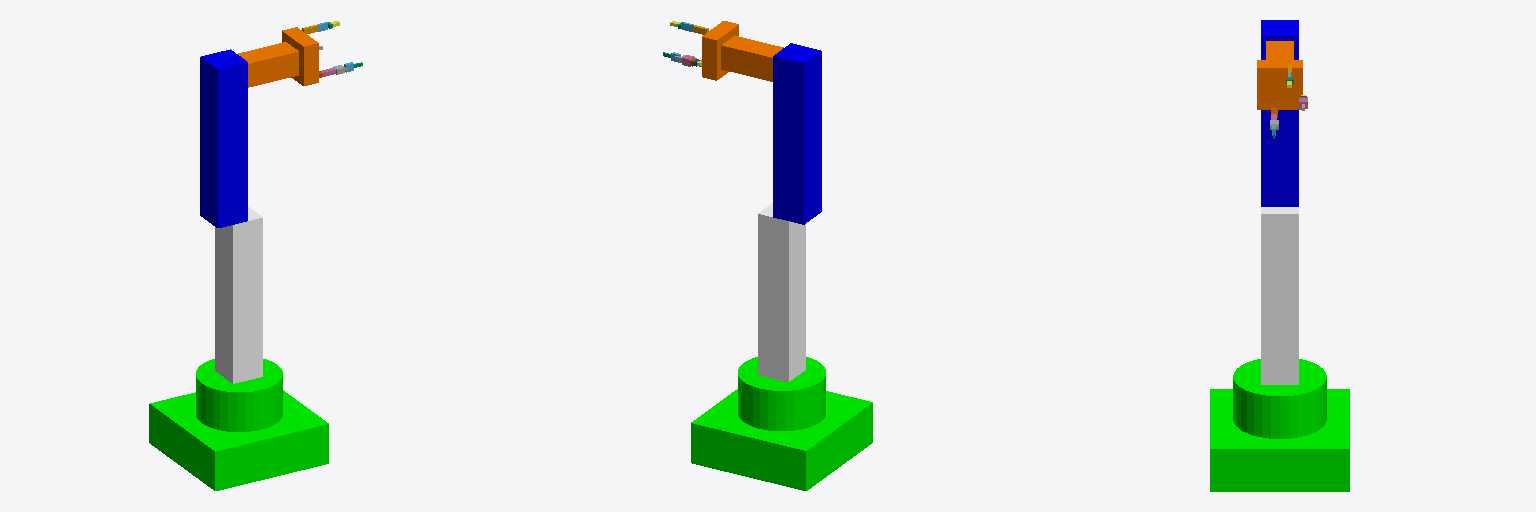
URDF robot description (robot):
<?xml version='1.0' encoding='utf-8'?>
<robot name="robot">
  <link name="base_link">
    <visual>
      <origin xyz="0 0 0.125" rpy="0 0 0" />
      <geometry>
        <box size="0.75 0.75 0.25" />
      </geometry>
      <material name="green" />
    </visual>
    <visual>
      <origin xyz="0 0 0.375" rpy="0 0 0" />
      <geometry>
        <cylinder length="0.25" radius="0.25" />
      </geometry>
      <material name="green">
        <color rgba="0 1 0 1" />
      </material>
    </visual>
    <collision>
      <geometry>
        <box size="0.75 0.75 0.5" />
      </geometry>
    </collision>
    <inertial>
      <mass value="0.5" />
      <inertia ixx="0.034" ixy="0.0" ixz="0.0" iyy="0.034" iyz="0.0" izz="0.034" />
    </inertial>
  </link>
  <link name="support_link">
    <visual>
      <origin xyz="0 0 0.5" rpy="0 0 0" />
      <geometry>
        <box size="0.2 0.2 1" />
      </geometry>
      <material name="white">
        <color rgba="1 1 1 1" />
      </material>
    </visual>
    <collision>
      <geometry>
        <box size="0.2 0.2 1" />
      </geometry>
    </collision>
    <inertial>
      <mass value="0.1" />
      <inertia ixx="0.01" ixy="0.0" ixz="0.0" iyy="0.01" iyz="0.0" izz="0.01" />
    </inertial>
  </link>
  <joint name="support_joint" type="continuous">
    <origin xyz="0 0 0.5" rpy="0 0 0" />
    <parent link="base_link" />
    <child link="support_link" />
    <axis xyz="0 0 1" />
  </joint>
  <link name="arm_link">
    <visual>
      <origin xyz="0 0 0.5" rpy="0 0 0" />
      <geometry>
        <box size="0.2 0.2 1" />
      </geometry>
      <material name="blue">
        <color rgba="0 0 1 1" />
      </material>
    </visual>
    <collision>
      <geometry>
        <box size="0.2 0.2 1" />
      </geometry>
    </collision>
    <inertial>
      <mass value="0.1" />
      <inertia ixx="0.01" ixy="0.0" ixz="0.0" iyy="0.01" iyz="0.0" izz="0.01" />
    </inertial>
  </link>
  <joint name="arm_joint" type="revolute">
    <origin xyz="-0.1 0 1" rpy="0 0 0" />
    <parent link="support_link" />
    <child link="arm_link" />
    <axis xyz="0 1 0" />
    <limit lower="-3.14" upper="3.14" effort="1.0" velocity="1.0" />
  </joint>
  <link name="wrist_link">
    <visual>
      <origin xyz="0 0 0.25" rpy="0 0 0" />
      <geometry>
        <box size="0.15 0.15 0.5" />
      </geometry>
      <material name="orange">
        <color rgba="1 0.5 0 1" />
      </material>
    </visual>
    <collision>
      <geometry>
        <box size="0.15 0.15 0.5" />
      </geometry>
    </collision>
    <inertial>
      <mass value="0.1" />
      <inertia ixx="0.01" ixy="0.0" ixz="0.0" iyy="0.01" iyz="0.0" izz="0.01" />
    </inertial>
  </link>
  <joint name="wrist_joint" type="fixed">
    <origin xyz="0 0 0.9" rpy="0 1.571 0" />
    <parent link="arm_link" />
    <child link="wrist_link" />
  </joint>
  <link name="palm_link">
    <visual>
      <origin xyz="0 0 0.05" rpy="0 0 0" />
      <geometry>
        <box size="0.25 0.25 0.1" />
      </geometry>
      <material name="orange" />
    </visual>
    <collision>
      <geometry>
        <box size="0.25 0.25 0.1" />
      </geometry>
    </collision>
    <inertial>
      <mass value="0.1" />
      <inertia ixx="0.01" ixy="0.0" ixz="0.0" iyy="0.01" iyz="0.0" izz="0.01" />
    </inertial>
  </link>
  <joint name="palm_joint" type="fixed">
    <origin xyz="0 0 0.45" rpy="0 0 0" />
    <parent link="wrist_link" />
    <child link="palm_link" />
  </joint>
  <link name="finger_link_0_0">
    <visual>
      <origin xyz="0 0 0.035" rpy="0 0 0" />
      <geometry>
        <box size="0.024 0.038 0.07" />
      </geometry>
    </visual>
    <collision>
      <geometry>
        <box size="0.024 0.038 0.07" />
      </geometry>
    </collision>
    <inertial>
      <mass value="0.019" />
      <inertia ixx="0.0" iyy="0.0" izz="0.0" ixy="0" ixz="0" iyz="0" />
    </inertial>
  </link>
  <joint name="finger_joint_palm_link_to_finger_link_0_0" type="revolute">
    <origin xyz="0.125 -0.031 0.1" rpy="0 0 0" />
    <parent link="palm_link" />
    <child link="finger_link_0_0" />
    <axis xyz="0.0 1.0 0.0" />
    <limit lower="-3.142" upper="3.142" effort="10" velocity="10" />
  </joint>
  <link name="finger_link_0_1">
    <visual>
      <origin xyz="0 0 0.045" rpy="0 0 0" />
      <geometry>
        <box size="0.028 0.03 0.09" />
      </geometry>
    </visual>
    <collision>
      <geometry>
        <box size="0.028 0.03 0.09" />
      </geometry>
    </collision>
    <inertial>
      <mass value="0.023" />
      <inertia ixx="0.0" iyy="0.0" izz="0.0" ixy="0" ixz="0" iyz="0" />
    </inertial>
  </link>
  <joint name="finger_joint_finger_link_0_0_to_finger_link_0_1" type="revolute">
    <origin xyz="0.0 0.0 0.07" rpy="0 0 0" />
    <parent link="finger_link_0_0" />
    <child link="finger_link_0_1" />
    <axis xyz="0.0 1.0 0.0" />
    <limit lower="-3.142" upper="3.142" effort="10" velocity="10" />
  </joint>
  <link name="finger_link_0_2">
    <visual>
      <origin xyz="0 0 0.0275" rpy="0 0 0" />
      <geometry>
        <box size="0.032 0.047 0.055" />
      </geometry>
    </visual>
    <collision>
      <geometry>
        <box size="0.032 0.047 0.055" />
      </geometry>
    </collision>
    <inertial>
      <mass value="0.025" />
      <inertia ixx="0.0" iyy="0.0" izz="0.0" ixy="0" ixz="0" iyz="0" />
    </inertial>
  </link>
  <joint name="finger_joint_finger_link_0_1_to_finger_link_0_2" type="revolute">
    <origin xyz="0.0 0.0 0.09" rpy="0 0 0" />
    <parent link="finger_link_0_1" />
    <child link="finger_link_0_2" />
    <axis xyz="0.0 1.0 0.0" />
    <limit lower="-3.142" upper="3.142" effort="10" velocity="10" />
  </joint>
  <link name="finger_link_0_3">
    <visual>
      <origin xyz="0 0 0.006" rpy="0 0 0" />
      <geometry>
        <box size="0.013 0.042 0.012" />
      </geometry>
    </visual>
    <collision>
      <geometry>
        <box size="0.013 0.042 0.012" />
      </geometry>
    </collision>
    <inertial>
      <mass value="0.002" />
      <inertia ixx="0.0" iyy="0.0" izz="0.0" ixy="0" ixz="0" iyz="0" />
    </inertial>
  </link>
  <joint name="finger_joint_finger_link_0_2_to_finger_link_0_3" type="revolute">
    <origin xyz="0.0 0.0 0.055" rpy="0 0 0" />
    <parent link="finger_link_0_2" />
    <child link="finger_link_0_3" />
    <axis xyz="0.0 1.0 0.0" />
    <limit lower="-3.142" upper="3.142" effort="10" velocity="10" />
  </joint>
  <link name="finger_link_0_4">
    <visual>
      <origin xyz="0 0 0.026" rpy="0 0 0" />
      <geometry>
        <box size="0.046 0.022 0.052" />
      </geometry>
    </visual>
    <collision>
      <geometry>
        <box size="0.046 0.022 0.052" />
      </geometry>
    </collision>
    <inertial>
      <mass value="0.016" />
      <inertia ixx="0.0" iyy="0.0" izz="0.0" ixy="0" ixz="0" iyz="0" />
    </inertial>
  </link>
  <joint name="finger_joint_finger_link_0_3_to_finger_link_0_4" type="revolute">
    <origin xyz="0.0 0.0 0.012" rpy="0 0 0" />
    <parent link="finger_link_0_3" />
    <child link="finger_link_0_4" />
    <axis xyz="0.0 1.0 0.0" />
    <limit lower="-3.142" upper="3.142" effort="10" velocity="10" />
  </joint>
  <link name="finger_link_0_5">
    <visual>
      <origin xyz="0 0 0.0295" rpy="0 0 0" />
      <geometry>
        <box size="0.02 0.012 0.059" />
      </geometry>
    </visual>
    <collision>
      <geometry>
        <box size="0.02 0.012 0.059" />
      </geometry>
    </collision>
    <inertial>
      <mass value="0.004" />
      <inertia ixx="0.0" iyy="0.0" izz="0.0" ixy="0" ixz="0" iyz="0" />
    </inertial>
  </link>
  <joint name="finger_joint_finger_link_0_4_to_finger_link_0_5" type="revolute">
    <origin xyz="0.0 0.0 0.052" rpy="0 0 0" />
    <parent link="finger_link_0_4" />
    <child link="finger_link_0_5" />
    <axis xyz="0.0 1.0 0.0" />
    <limit lower="-3.142" upper="3.142" effort="10" velocity="10" />
  </joint>
  <link name="finger_link_1_0">
    <visual>
      <origin xyz="0 0 0.0105" rpy="0 0 0" />
      <geometry>
        <box size="0.02 0.026 0.021" />
      </geometry>
    </visual>
    <collision>
      <geometry>
        <box size="0.02 0.026 0.021" />
      </geometry>
    </collision>
    <inertial>
      <mass value="0.003" />
      <inertia ixx="0.0" iyy="0.0" izz="0.0" ixy="0" ixz="0" iyz="0" />
    </inertial>
  </link>
  <joint name="finger_joint_palm_link_to_finger_link_1_0" type="revolute">
    <origin xyz="0.044 0.125 0.1" rpy="0 0 0" />
    <parent link="palm_link" />
    <child link="finger_link_1_0" />
    <axis xyz="0.0 1.0 0.0" />
    <limit lower="-3.142" upper="3.142" effort="10" velocity="10" />
  </joint>
  <link name="finger_link_1_1">
    <visual>
      <origin xyz="0 0 0.01" rpy="0 0 0" />
      <geometry>
        <box size="0.027 0.039 0.02" />
      </geometry>
    </visual>
    <collision>
      <geometry>
        <box size="0.027 0.039 0.02" />
      </geometry>
    </collision>
    <inertial>
      <mass value="0.006" />
      <inertia ixx="0.0" iyy="0.0" izz="0.0" ixy="0" ixz="0" iyz="0" />
    </inertial>
  </link>
  <joint name="finger_joint_finger_link_1_0_to_finger_link_1_1" type="revolute">
    <origin xyz="0.0 0.0 0.021" rpy="0 0 0" />
    <parent link="finger_link_1_0" />
    <child link="finger_link_1_1" />
    <axis xyz="0.0 1.0 0.0" />
    <limit lower="-3.142" upper="3.142" effort="10" velocity="10" />
  </joint>
  <link name="finger_link_1_2">
    <visual>
      <origin xyz="0 0 0.009" rpy="0 0 0" />
      <geometry>
        <box size="0.033 0.047 0.018" />
      </geometry>
    </visual>
    <collision>
      <geometry>
        <box size="0.033 0.047 0.018" />
      </geometry>
    </collision>
    <inertial>
      <mass value="0.008" />
      <inertia ixx="0.0" iyy="0.0" izz="0.0" ixy="0" ixz="0" iyz="0" />
    </inertial>
  </link>
  <joint name="finger_joint_finger_link_1_1_to_finger_link_1_2" type="revolute">
    <origin xyz="0.0 0.0 0.02" rpy="0 0 0" />
    <parent link="finger_link_1_1" />
    <child link="finger_link_1_2" />
    <axis xyz="0.0 1.0 0.0" />
    <limit lower="-3.142" upper="3.142" effort="10" velocity="10" />
  </joint>
  <link name="finger_link_1_3">
    <visual>
      <origin xyz="0 0 0.0255" rpy="0 0 0" />
      <geometry>
        <box size="0.044 0.049 0.051" />
      </geometry>
    </visual>
    <collision>
      <geometry>
        <box size="0.044 0.049 0.051" />
      </geometry>
    </collision>
    <inertial>
      <mass value="0.033" />
      <inertia ixx="0.0" iyy="0.0" izz="0.0" ixy="0" ixz="0" iyz="0" />
    </inertial>
  </link>
  <joint name="finger_joint_finger_link_1_2_to_finger_link_1_3" type="revolute">
    <origin xyz="0.0 0.0 0.018" rpy="0 0 0" />
    <parent link="finger_link_1_2" />
    <child link="finger_link_1_3" />
    <axis xyz="0.0 1.0 0.0" />
    <limit lower="-3.142" upper="3.142" effort="10" velocity="10" />
  </joint>
  <link name="finger_link_1_4">
    <visual>
      <origin xyz="0 0 0.029" rpy="0 0 0" />
      <geometry>
        <box size="0.018 0.011 0.058" />
      </geometry>
    </visual>
    <collision>
      <geometry>
        <box size="0.018 0.011 0.058" />
      </geometry>
    </collision>
    <inertial>
      <mass value="0.003" />
      <inertia ixx="0.0" iyy="0.0" izz="0.0" ixy="0" ixz="0" iyz="0" />
    </inertial>
  </link>
  <joint name="finger_joint_finger_link_1_3_to_finger_link_1_4" type="revolute">
    <origin xyz="0.0 0.0 0.051" rpy="0 0 0" />
    <parent link="finger_link_1_3" />
    <child link="finger_link_1_4" />
    <axis xyz="0.0 1.0 0.0" />
    <limit lower="-3.142" upper="3.142" effort="10" velocity="10" />
  </joint>
  <link name="finger_link_2_0">
    <visual>
      <origin xyz="0 0 0.0465" rpy="0 0 0" />
      <geometry>
        <box size="0.037 0.02 0.093" />
      </geometry>
    </visual>
    <collision>
      <geometry>
        <box size="0.037 0.02 0.093" />
      </geometry>
    </collision>
    <inertial>
      <mass value="0.021" />
      <inertia ixx="0.0" iyy="0.0" izz="0.0" ixy="0" ixz="0" iyz="0" />
    </inertial>
  </link>
  <joint name="finger_joint_palm_link_to_finger_link_2_0" type="revolute">
    <origin xyz="-0.125 0.052 0.1" rpy="0 0 0" />
    <parent link="palm_link" />
    <child link="finger_link_2_0" />
    <axis xyz="0.0 1.0 0.0" />
    <limit lower="-3.142" upper="3.142" effort="10" velocity="10" />
  </joint>
  <link name="finger_link_2_1">
    <visual>
      <origin xyz="0 0 0.034" rpy="0 0 0" />
      <geometry>
        <box size="0.043 0.016 0.068" />
      </geometry>
    </visual>
    <collision>
      <geometry>
        <box size="0.043 0.016 0.068" />
      </geometry>
    </collision>
    <inertial>
      <mass value="0.014" />
      <inertia ixx="0.0" iyy="0.0" izz="0.0" ixy="0" ixz="0" iyz="0" />
    </inertial>
  </link>
  <joint name="finger_joint_finger_link_2_0_to_finger_link_2_1" type="revolute">
    <origin xyz="0.0 0.0 0.093" rpy="0 0 0" />
    <parent link="finger_link_2_0" />
    <child link="finger_link_2_1" />
    <axis xyz="0.0 1.0 0.0" />
    <limit lower="-3.142" upper="3.142" effort="10" velocity="10" />
  </joint>
  <link name="finger_link_2_2">
    <visual>
      <origin xyz="0 0 0.01" rpy="0 0 0" />
      <geometry>
        <box size="0.024 0.044 0.02" />
      </geometry>
    </visual>
    <collision>
      <geometry>
        <box size="0.024 0.044 0.02" />
      </geometry>
    </collision>
    <inertial>
      <mass value="0.006" />
      <inertia ixx="0.0" iyy="0.0" izz="0.0" ixy="0" ixz="0" iyz="0" />
    </inertial>
  </link>
  <joint name="finger_joint_finger_link_2_1_to_finger_link_2_2" type="revolute">
    <origin xyz="0.0 0.0 0.068" rpy="0 0 0" />
    <parent link="finger_link_2_1" />
    <child link="finger_link_2_2" />
    <axis xyz="0.0 1.0 0.0" />
    <limit lower="-3.142" upper="3.142" effort="10" velocity="10" />
  </joint>
  <link name="finger_link_2_3">
    <visual>
      <origin xyz="0 0 0.0275" rpy="0 0 0" />
      <geometry>
        <box size="0.019 0.029 0.055" />
      </geometry>
    </visual>
    <collision>
      <geometry>
        <box size="0.019 0.029 0.055" />
      </geometry>
    </collision>
    <inertial>
      <mass value="0.009" />
      <inertia ixx="0.0" iyy="0.0" izz="0.0" ixy="0" ixz="0" iyz="0" />
    </inertial>
  </link>
  <joint name="finger_joint_finger_link_2_2_to_finger_link_2_3" type="revolute">
    <origin xyz="0.0 0.0 0.02" rpy="0 0 0" />
    <parent link="finger_link_2_2" />
    <child link="finger_link_2_3" />
    <axis xyz="0.0 1.0 0.0" />
    <limit lower="-3.142" upper="3.142" effort="10" velocity="10" />
  </joint>
</robot>

--- Facts derived from the render (not from the file) ---
Views: 3 orthographic renders of the robot side by side, from view 1: azimuth 30°, elevation 25°; view 2: azimuth 150°, elevation 25°; view 3: azimuth 270°, elevation 25°.
Robot: robot — 20 links, 19 joints (16 revolute, 1 continuous, 2 fixed); root link base_link; default pose: all joints at 0.
Visible links, largest first — view 1: base_link, arm_link, support_link, wrist_link, palm_link; view 2: base_link, arm_link, support_link, wrist_link, palm_link; view 3: base_link, support_link, arm_link, palm_link, wrist_link.
Boxes of the visible links, <box> form: base_link: <box>149,359,328,490</box>; arm_link: <box>200,49,247,227</box>; support_link: <box>215,207,262,383</box>; wrist_link: <box>238,42,298,87</box>; palm_link: <box>282,27,318,85</box>; base_link: <box>691,357,872,490</box>; arm_link: <box>773,43,821,224</box>; support_link: <box>758,203,805,382</box>; wrist_link: <box>721,36,783,81</box>; palm_link: <box>702,21,738,80</box>; base_link: <box>1210,359,1349,491</box>; support_link: <box>1261,207,1298,384</box>; arm_link: <box>1261,20,1298,206</box>; palm_link: <box>1257,60,1302,109</box>; wrist_link: <box>1266,41,1293,59</box>.
Size in the robot's own frame: 1.16 by 0.75 by 2.55 metres.
Geometry: primitives only (box / cylinder / sphere), no mesh files.